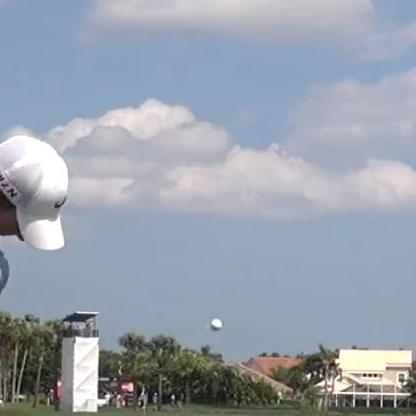golfball: (208, 316, 220, 329)
